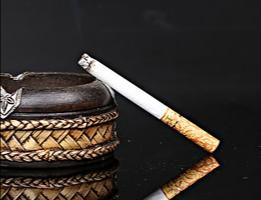Cigarette: (79, 52, 220, 154), (140, 156, 220, 200)
